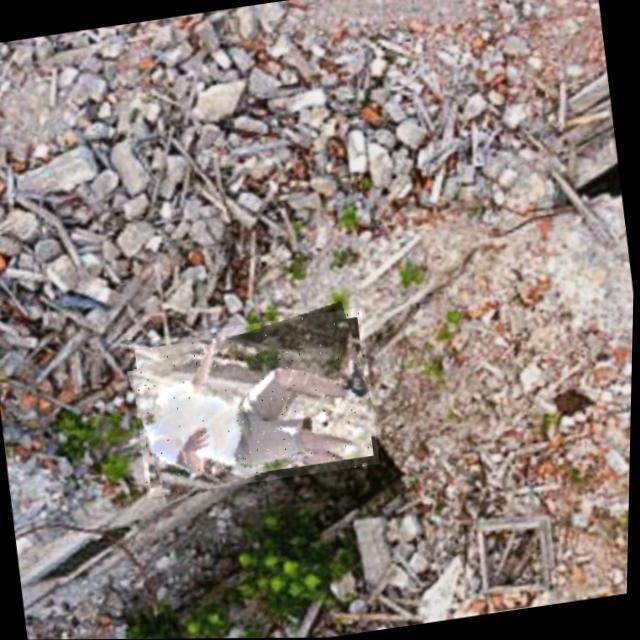Person in Rubble: (127, 307, 385, 497)
